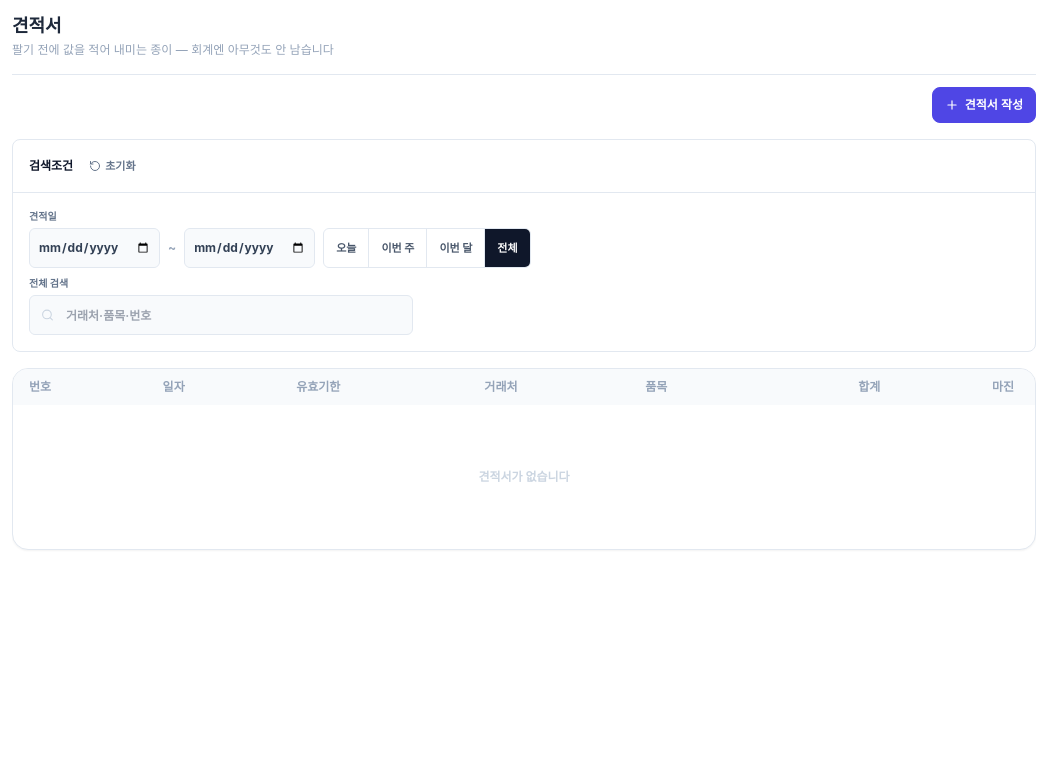
it: 견적 조회는 날짜 행 다음 검색 행을 두고 작성 버튼은 조회 패널 밖에 둔다
Expected: the element named "견적일 시작일" is shown, [29,210,531,268]
Expected: the element named "견적 검색" is shown, [29,277,413,335]
Step 1. Type "없는견적" into the field named "견적 검색" → (221, 315), box [29,295,413,335]
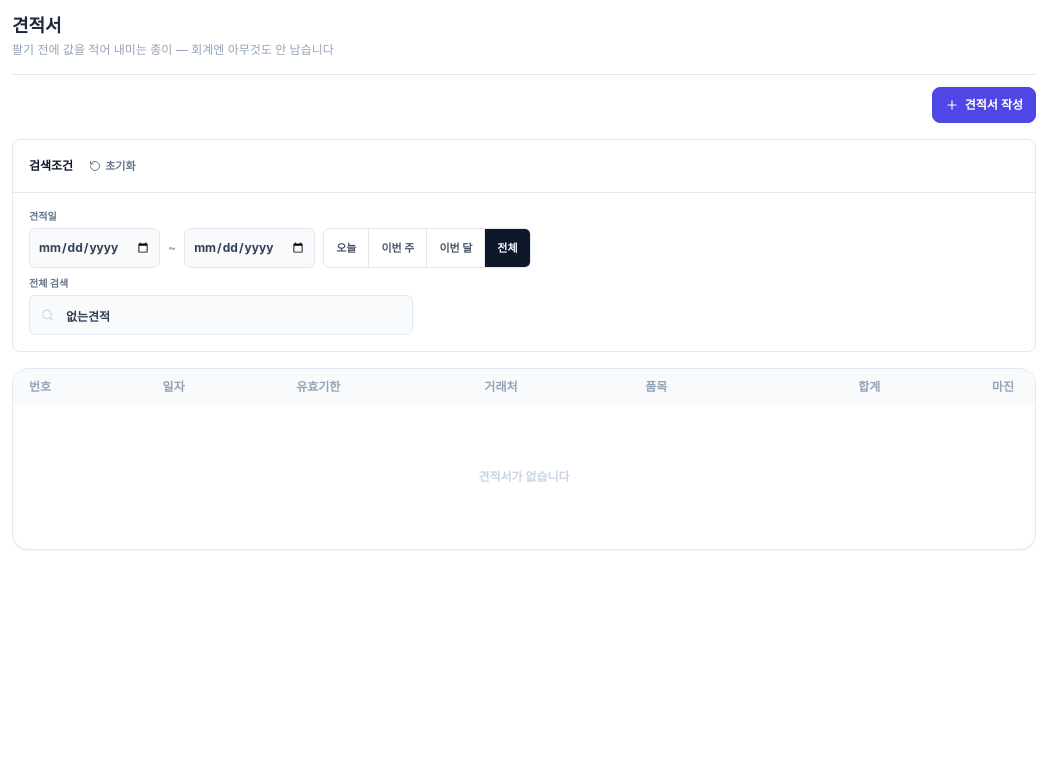
Step 2. Click the button "초기화" → click(112, 166), box [81,150,144,182]
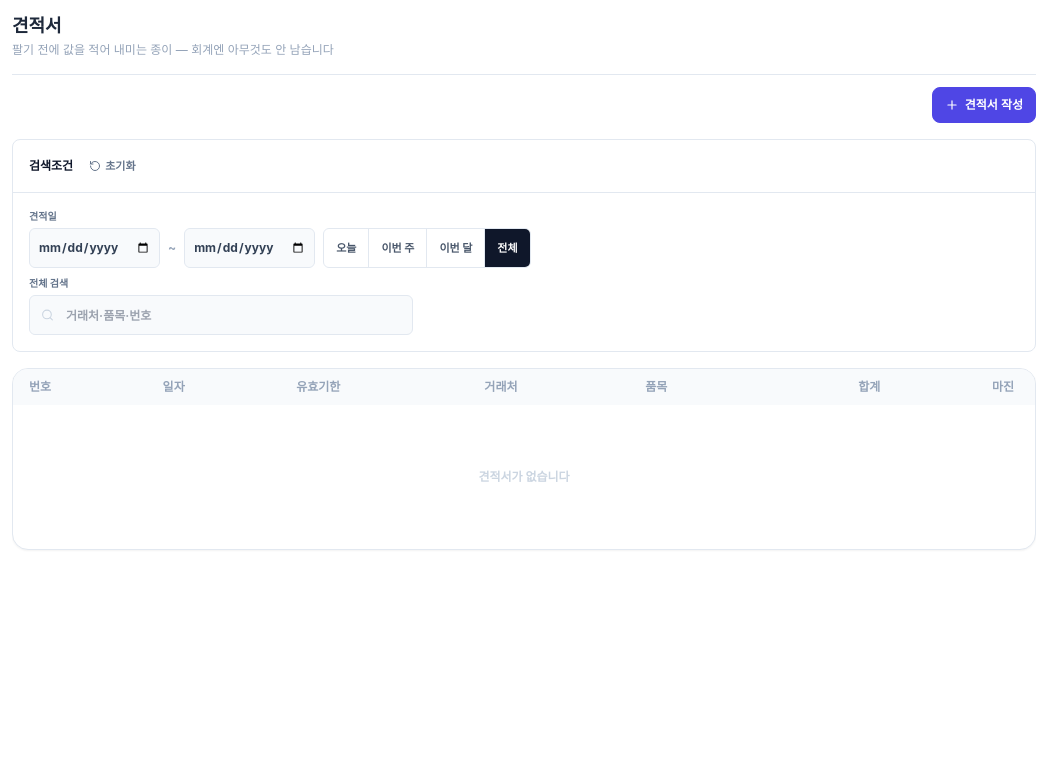
Expected: the field named "견적 검색" is empty, [29,295,413,335]
